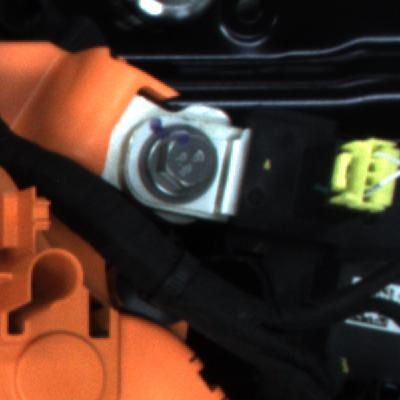nut_b: (134, 123, 229, 208)
